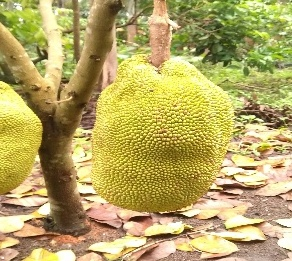Mit: (92, 55, 234, 213)
